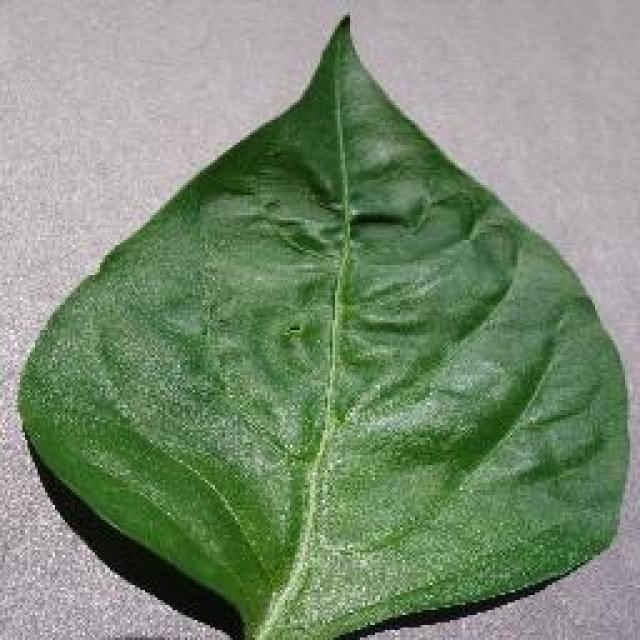Leaf: (131, 200, 543, 573)
